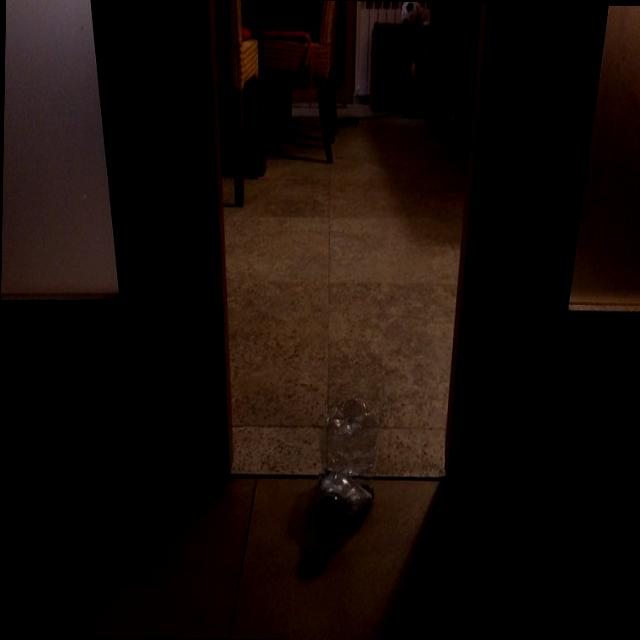Recycle: (315, 389, 385, 532)
